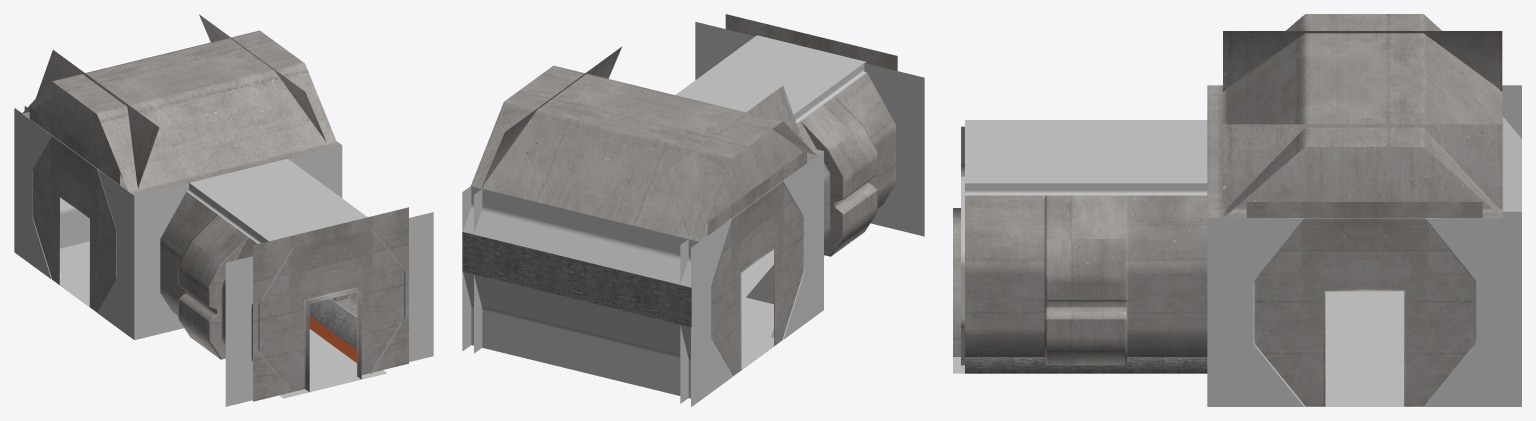
Rendered from HC_room1_endroom.gltf.
3 views of the same model, side by side, from view 1: azimuth 30°, elevation 25°; view 2: azimuth 150°, elevation 25°; view 3: azimuth 270°, elevation 25° (orthographic). The views are drawn at different scales.
Visible parts, largest first — view 1: _3room_HCZ.002; view 2: _3room_HCZ.002; view 3: _3room_HCZ.002.
Boxes of the visible parts, x1,y1,x2,y2 form: _3room_HCZ.002: (14,14,433,406); _3room_HCZ.002: (462,14,924,406); _3room_HCZ.002: (953,14,1521,406).
Size of the model in its own units: 8 by 7.38 by 14.47.
